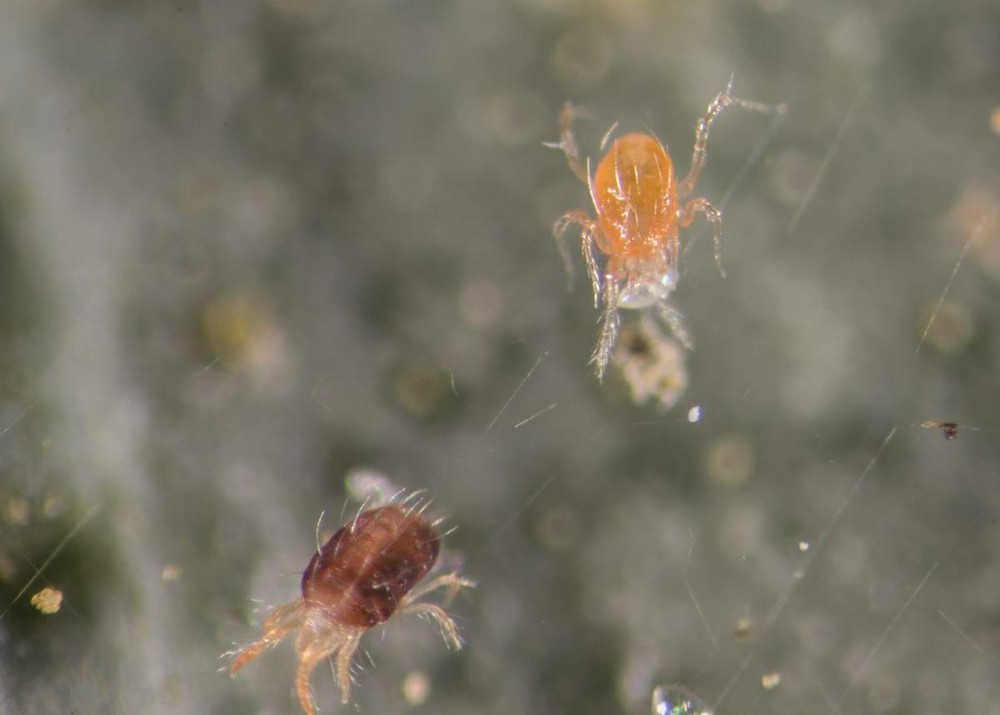Aracnido Rojo: (530, 91, 770, 368), (215, 477, 499, 704)
